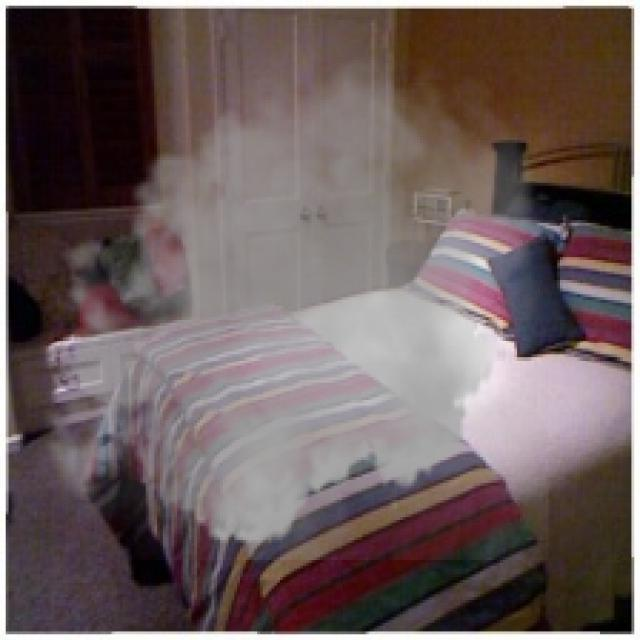Smoke: (29, 37, 548, 560)
